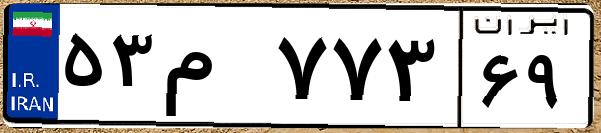3: (385, 28, 445, 110), (110, 28, 158, 98)
5: (57, 26, 110, 100)
6: (475, 38, 525, 113)
7: (270, 28, 330, 110), (330, 28, 385, 110)
9: (525, 38, 570, 115)
م: (158, 20, 270, 120)
